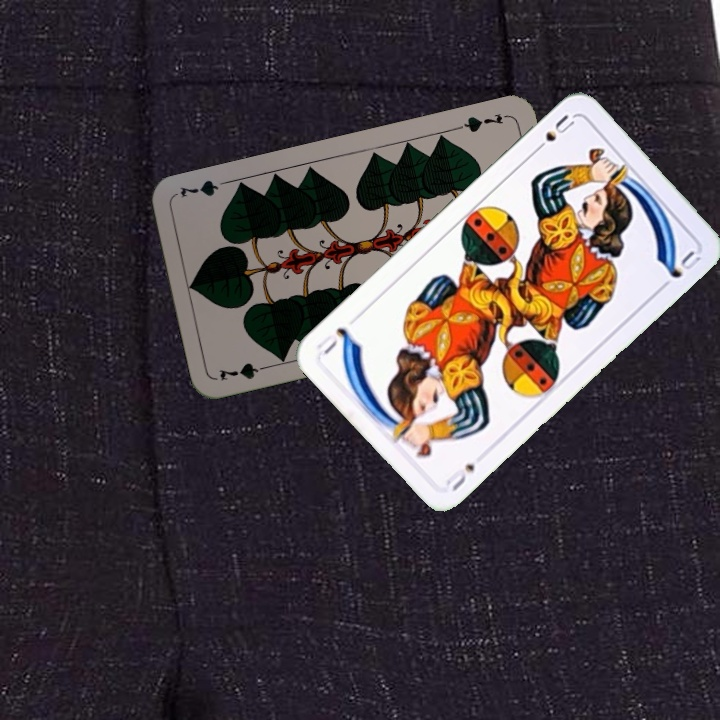G7: (454, 109, 513, 135), (215, 358, 274, 383)
SU: (529, 110, 578, 157), (442, 459, 478, 494)
